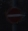No entry: (5, 6, 23, 26)
